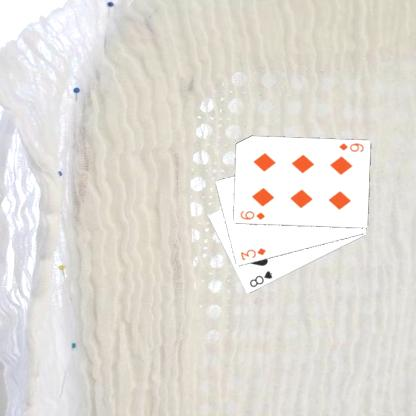3D: (238, 245, 267, 262)
6D: (237, 209, 266, 221), (336, 141, 365, 153)
8S: (246, 268, 274, 289)
